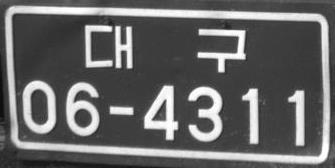0: (21, 77, 57, 135)
1: (236, 87, 270, 145), (283, 89, 314, 147)
3: (187, 85, 223, 142)
4: (143, 83, 178, 140)
6: (65, 81, 99, 136)
대구_D: (84, 23, 246, 72)
